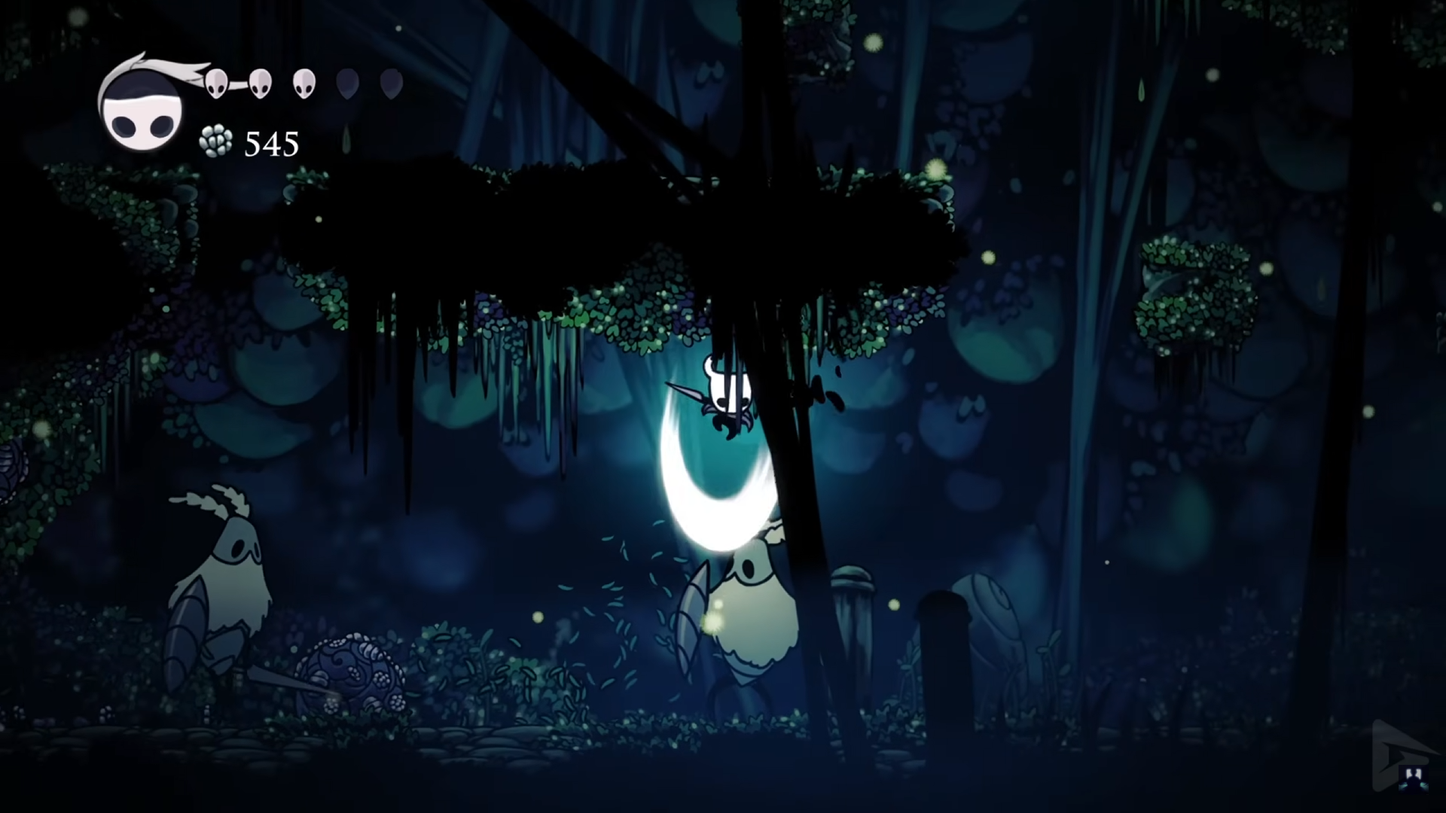HK: (691, 351, 756, 441)
